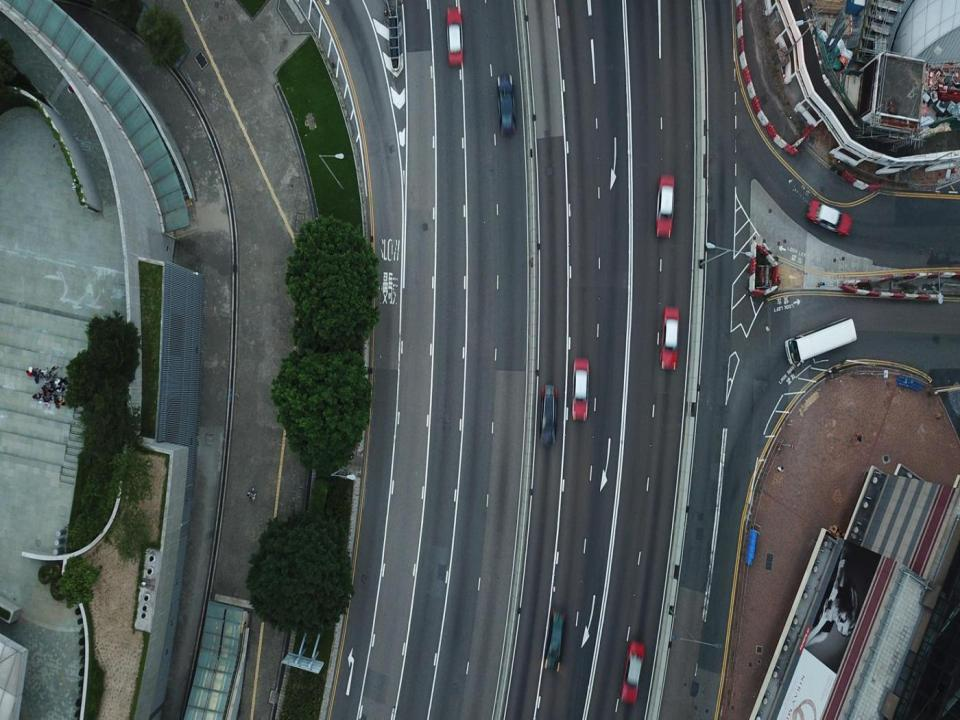bus: (785, 319, 861, 367)
car: (807, 193, 854, 234), (620, 640, 644, 700), (445, 3, 465, 71), (496, 71, 516, 137), (655, 174, 674, 240), (571, 356, 590, 420), (540, 383, 558, 448), (660, 306, 678, 370)
van: (544, 608, 564, 669)
